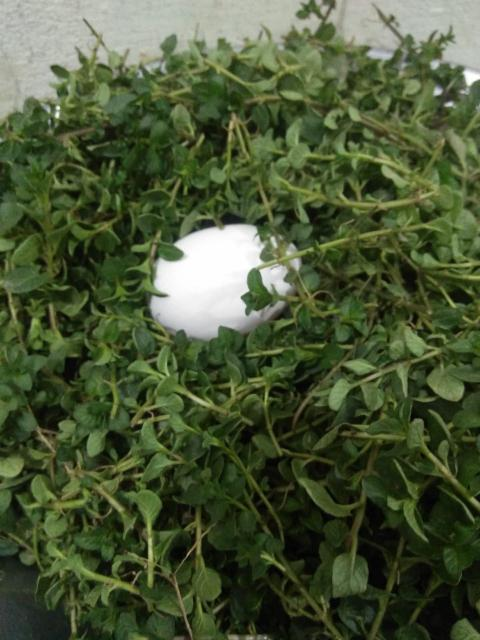Sano: (149, 217, 301, 339)
